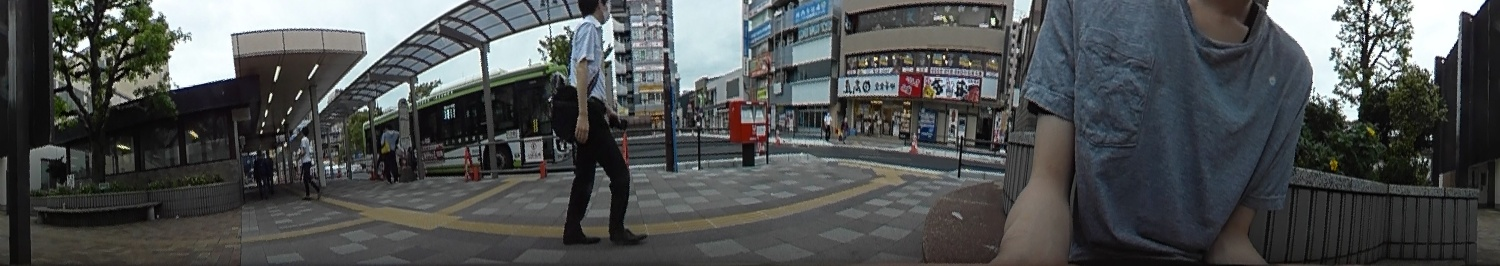difficult_person: (264, 149, 275, 193), (252, 152, 264, 191)
person: (556, 0, 641, 241), (294, 127, 318, 199), (378, 123, 401, 184)
